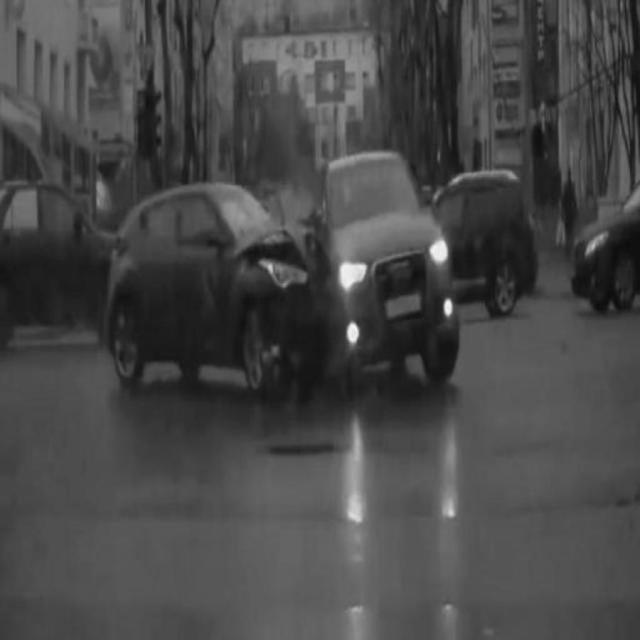accident: (103, 151, 460, 388)
vehicle: (434, 172, 537, 316), (568, 179, 640, 313)
